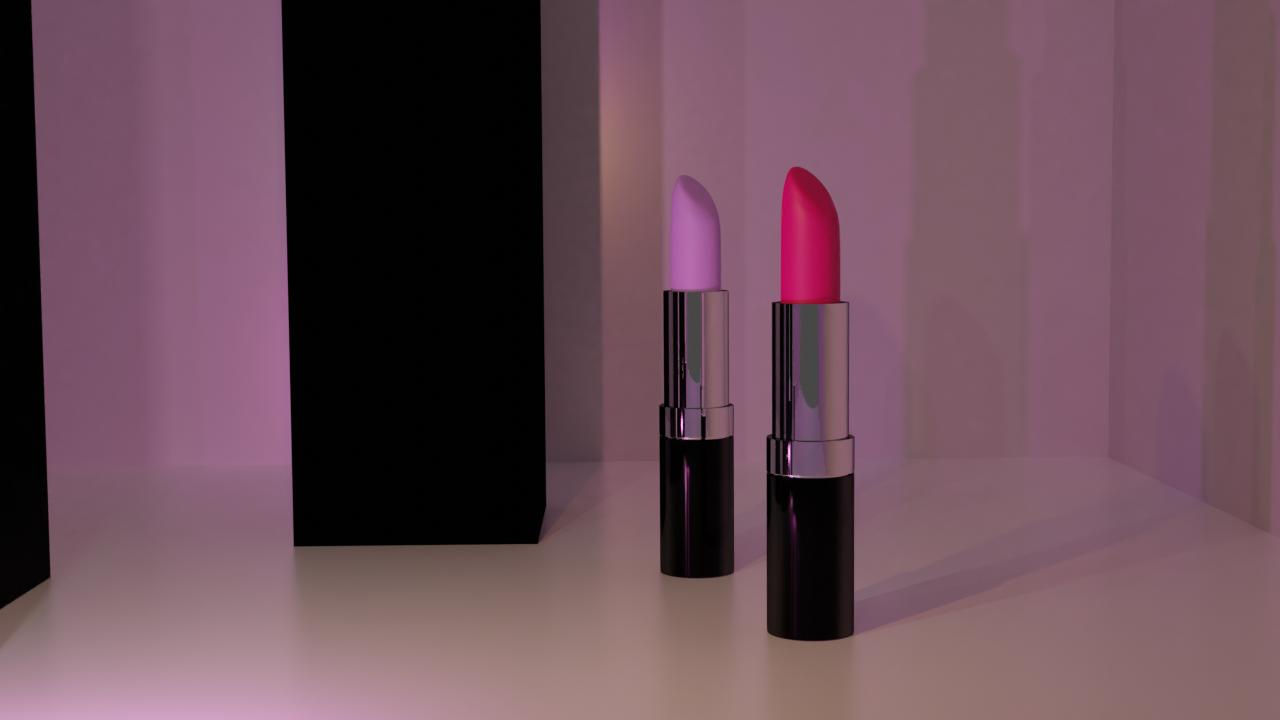CLASSIFIER_NAME: (765, 160, 856, 641), (658, 170, 735, 578)
